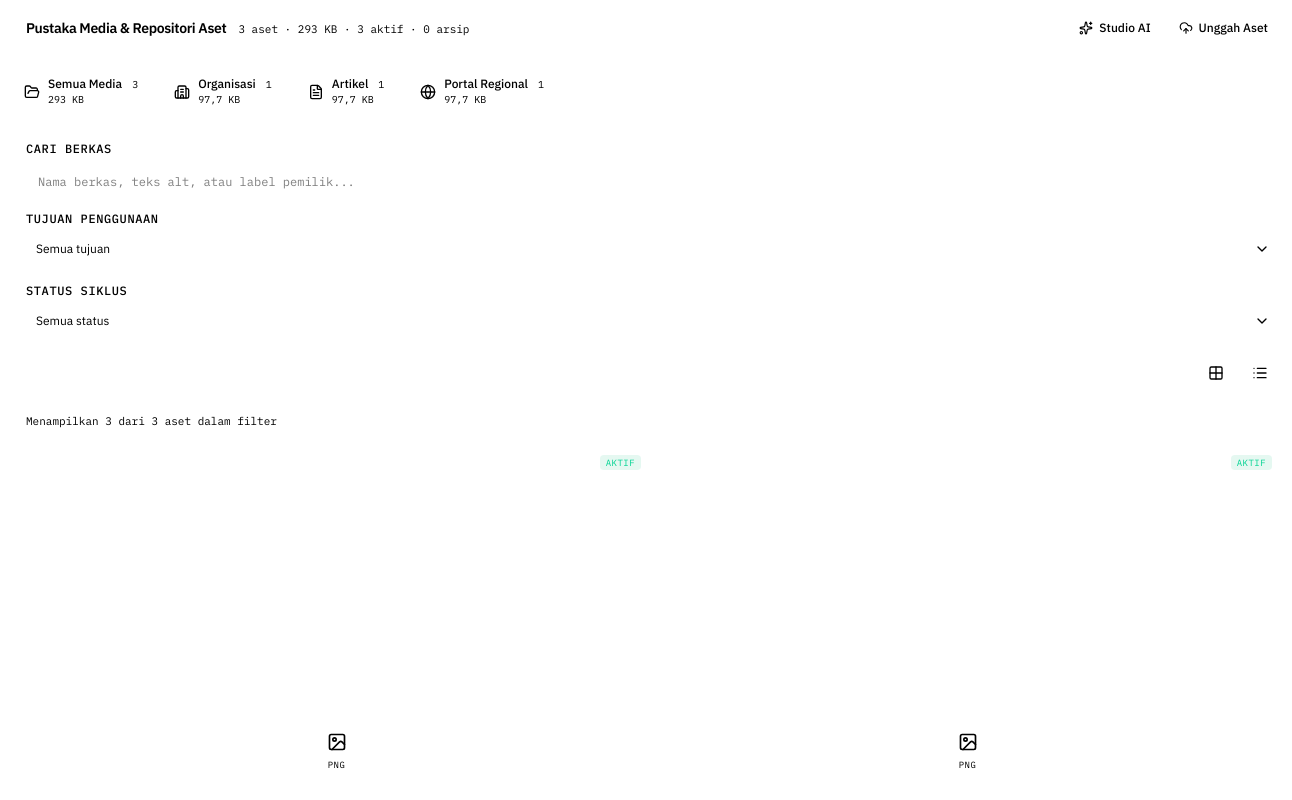
MediaLibrary › menyaring folder dan mencari nama berkas
Click the button "Portal Regional 1 97,7 KB" at (484, 92), box [408, 68, 560, 115]
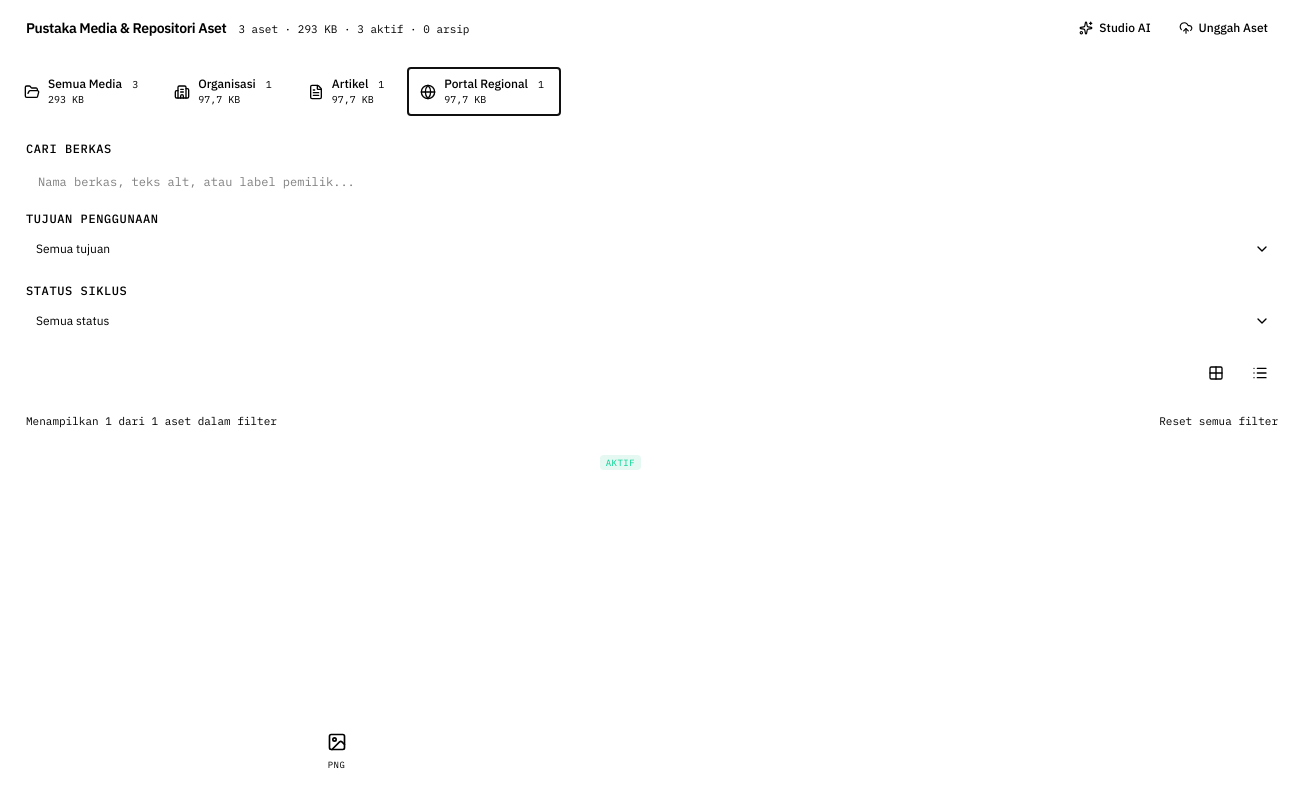
Check: the text "Menampilkan 1 dari 1 aset dalam filter" is shown, box [26, 413, 277, 430]
Click the button "Semua Media 3 293 KB" at (83, 92), box [12, 68, 154, 115]
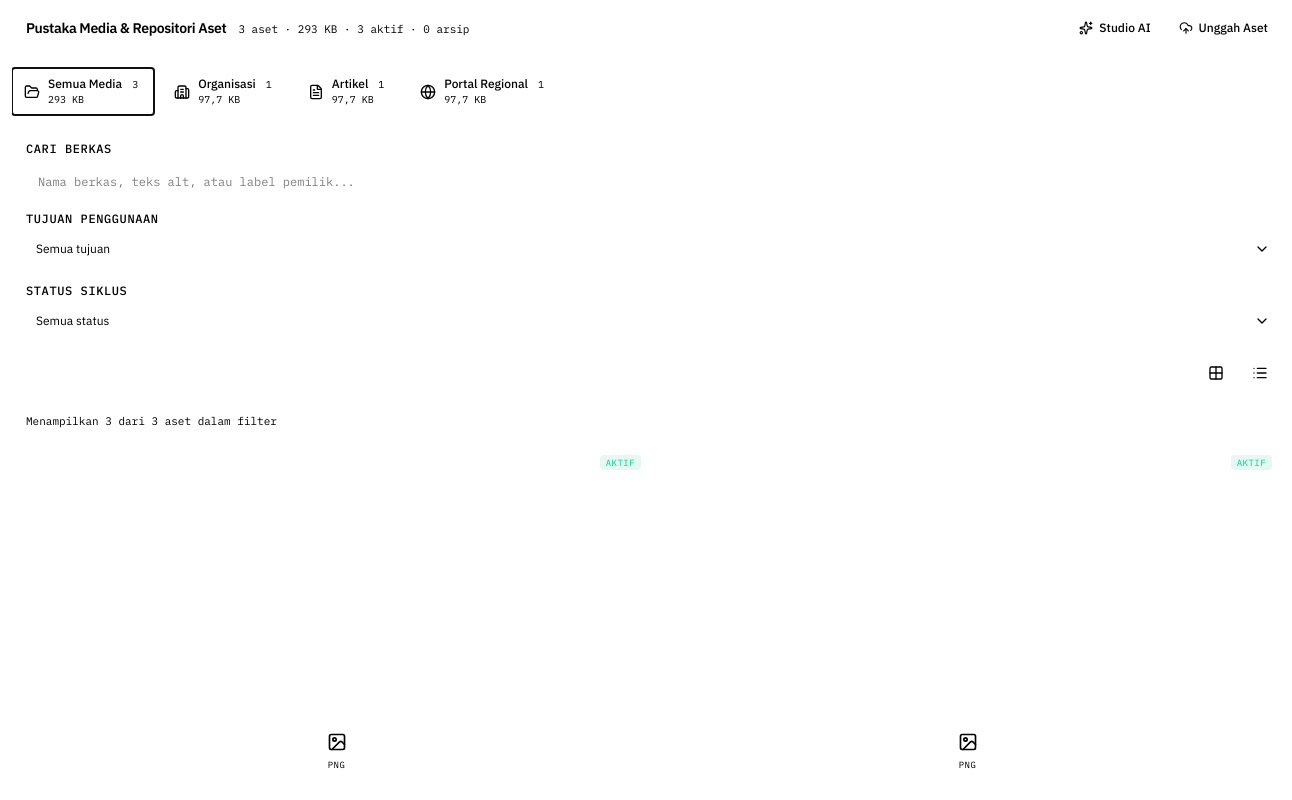
Check: the text "Menampilkan 3 dari 3 aset dalam filter" is shown, box [26, 413, 277, 430]
Type "berkas-3" into the field labelled "Cari Berkas" at (652, 181), box [26, 163, 1278, 199]
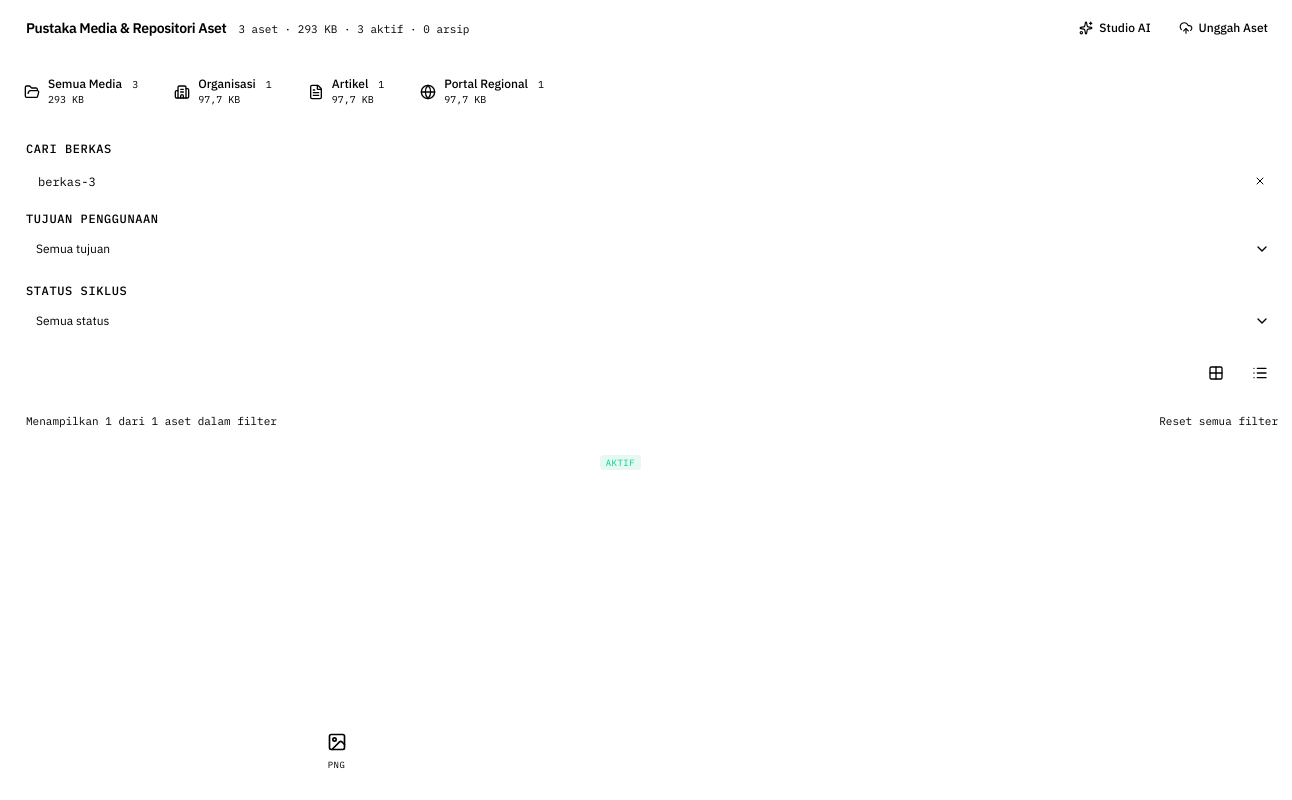
Check: the text "Menampilkan 1 dari 1 aset dalam filter" is shown, box [26, 413, 277, 430]
